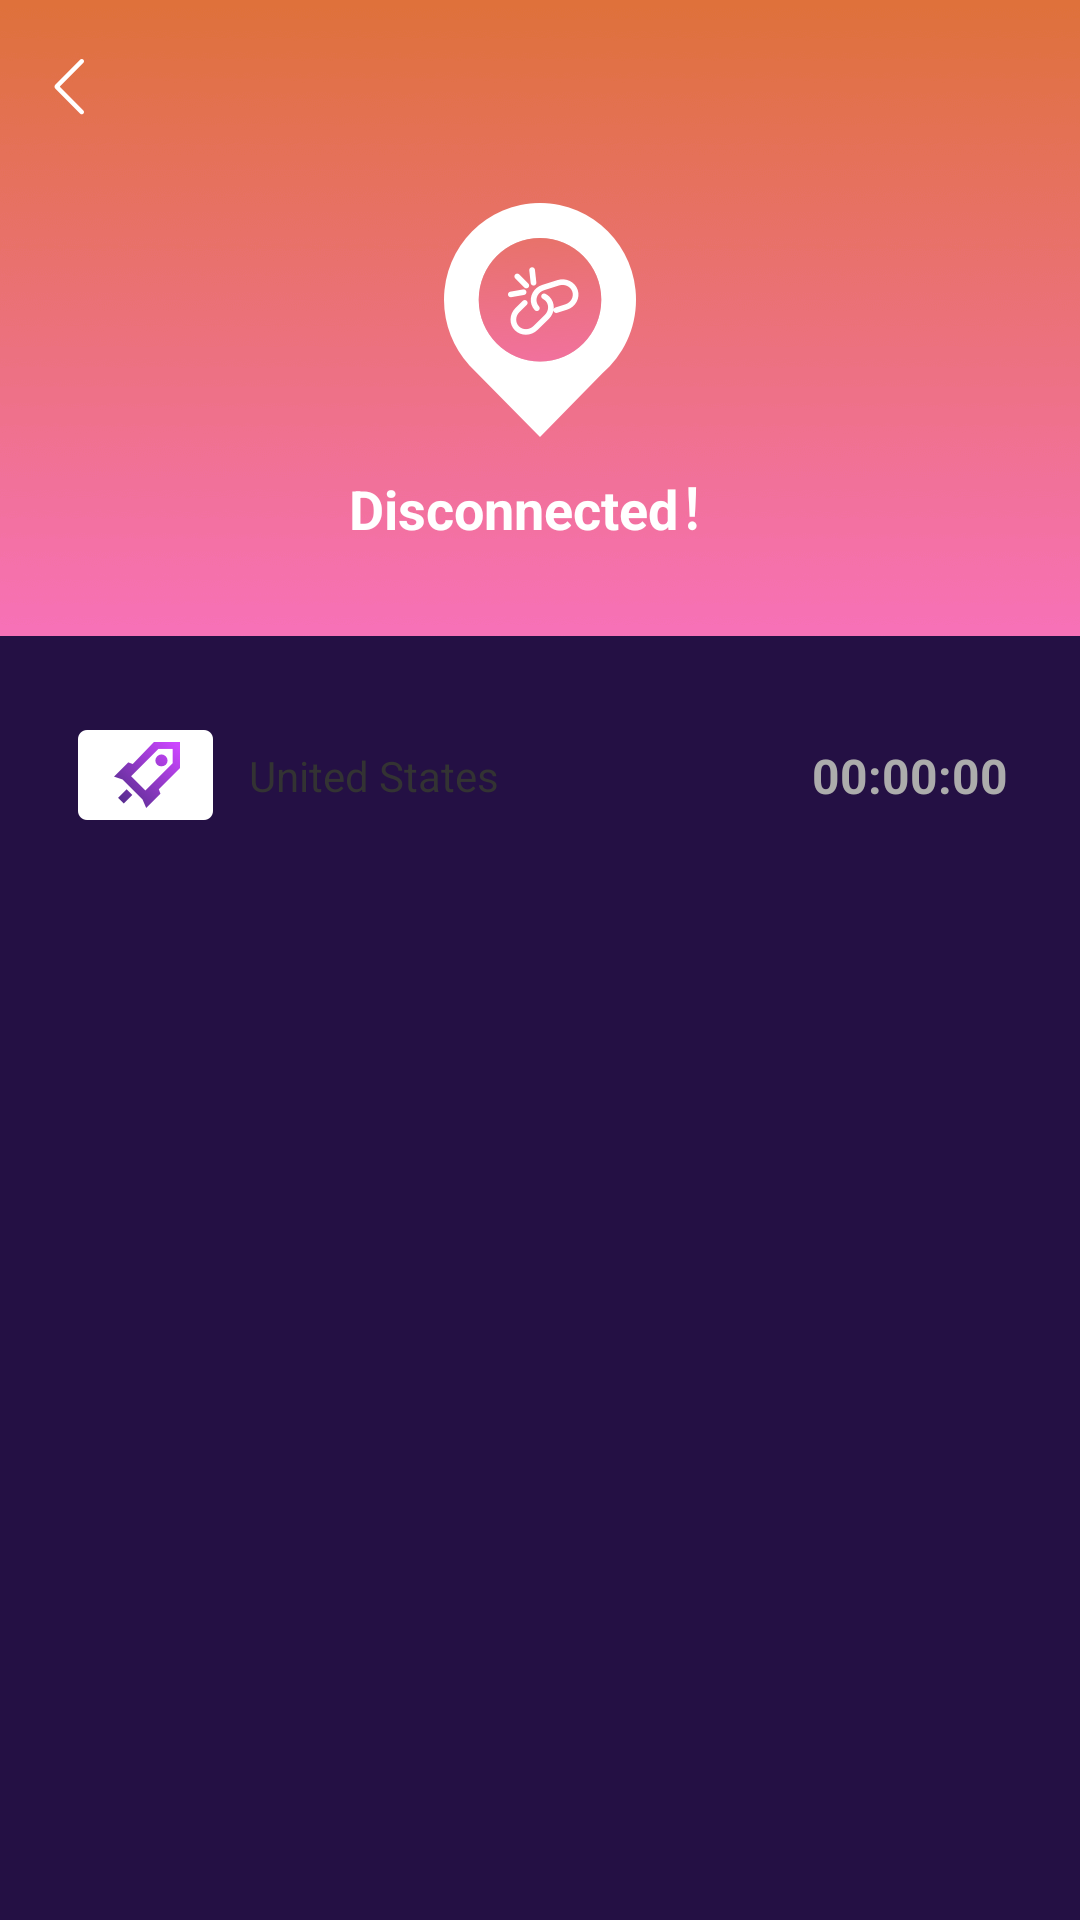

Icons on this 1080 x 1920 Android screen, each with its box as bbox=[x1, y1, x2, y2]:
back: bbox=[54, 59, 84, 115]
